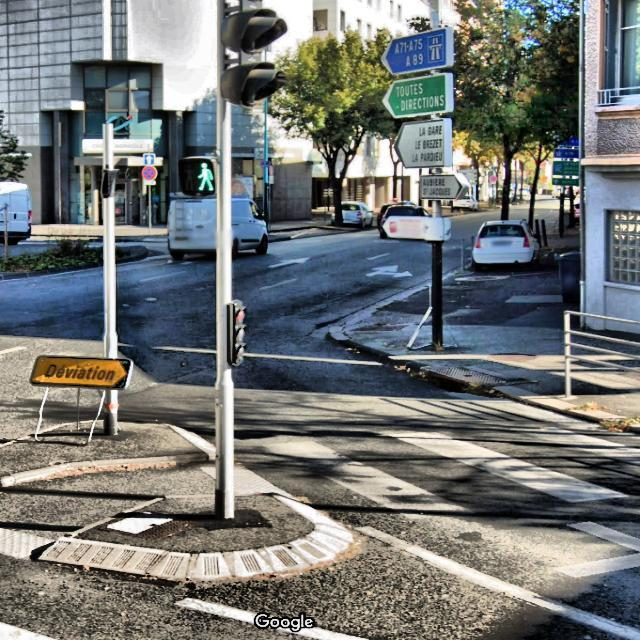green_light: (193, 158, 216, 192)
